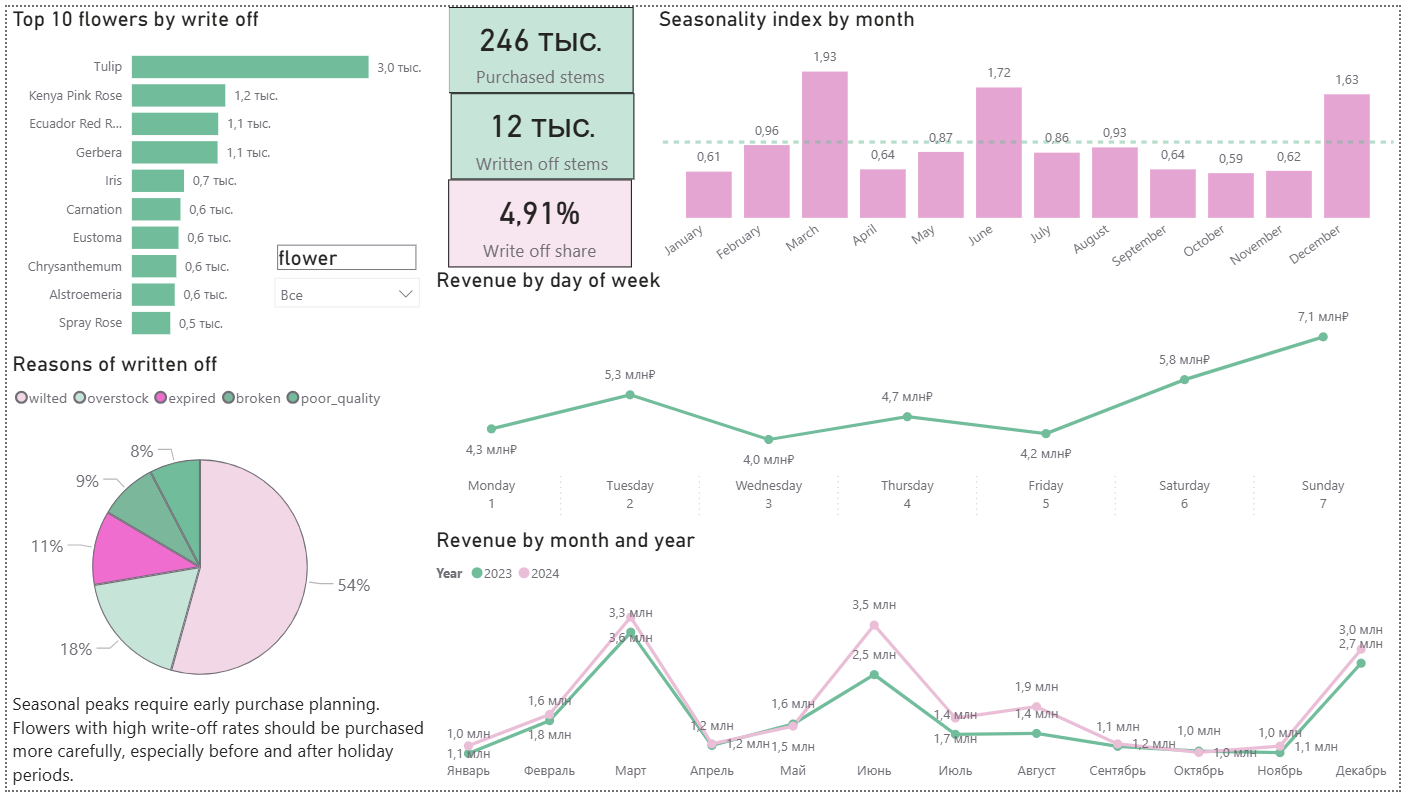

Layout of this report page (visuals, bound fields, positions):
{"tool":"powerbi","page":{"name":"Seasonality & Write-offs","canvas":[1280,720],"ordinal":4},"visuals":[{"type":"card","fields":{"Values":["Measuress.Written Off Stems"]},"box":[407.5,79.6,168.8,79.6],"z":0},{"type":"card","fields":{"Values":["Measuress.Purchased Stems"]},"box":[406.2,0,170.2,79.6],"z":1000},{"type":"lineChart","title":"Revenue by month and year","fields":{"Category":["Date.Month Name"],"Y":["Measuress.Revenue"],"Series":["Date.Year"]},"box":[389.7,478.9,890.6,241.5],"z":2000},{"type":"columnChart","title":"Seasonality index by month","fields":{"Category":["06_seasonality_index.month_name"],"Y":["Avg(06_seasonality_index.seasonality_index)"]},"box":[594.2,0,686.1,262.1],"z":3000},{"type":"pieChart","title":"Reasons of written off  ","fields":{"Category":["public write_offs.reason"],"Y":["Measuress.Written Off Stems"]},"box":[0,317,355.4,344.4],"z":4000},{"type":"barChart","title":"Top 10 flowers by write off","fields":{"Category":["public flowers.flower_name"],"Y":["Measuress.Written Off Stems"]},"box":[0,0,406.2,317],"z":5000},{"type":"actionButton","box":[0,0,100,40],"z":6000},{"type":"textbox","box":[0,624.4,389.7,96.1],"z":7000},{"type":"card","fields":{"Values":["Measuress.Write Off Rate"]},"box":[406.2,159.2,168.8,81],"z":8000},{"type":"slicer","fields":{"Values":["public flowers.flower_name"]},"box":[236,214.1,153.7,70],"z":9000},{"type":"lineChart","title":"Revenue by day of week","fields":{"Y":["Sum(06_revenue_by_week.avg_revenue_by_period)"],"Category":["06_revenue_by_week.number_of_week","06_revenue_by_week.day_of_week"]},"box":[389.7,240.1,876.8,238.8],"z":10000}]}

Visuals, with their boxes in screenshot pixels (x1, y1, x2, y2), scaled from the page's 1280x720 canvas onto the 1409x800 screenshot:
card - Measuress.Written Off Stems: 449 88 634 177
card - Measuress.Purchased Stems: 447 0 634 88
"Revenue by month and year" lineChart: 429 532 1408 799
"Seasonality index by month" columnChart: 654 0 1408 291
"Reasons of written off  " pieChart: 0 352 391 735
"Top 10 flowers by write off" barChart: 0 0 447 352
actionButton: 0 0 110 44
textbox: 0 694 429 799
card - Measuress.Write Off Rate: 447 177 633 267
slicer - public flowers.flower_name: 260 238 429 316
"Revenue by day of week" lineChart: 429 267 1394 532
